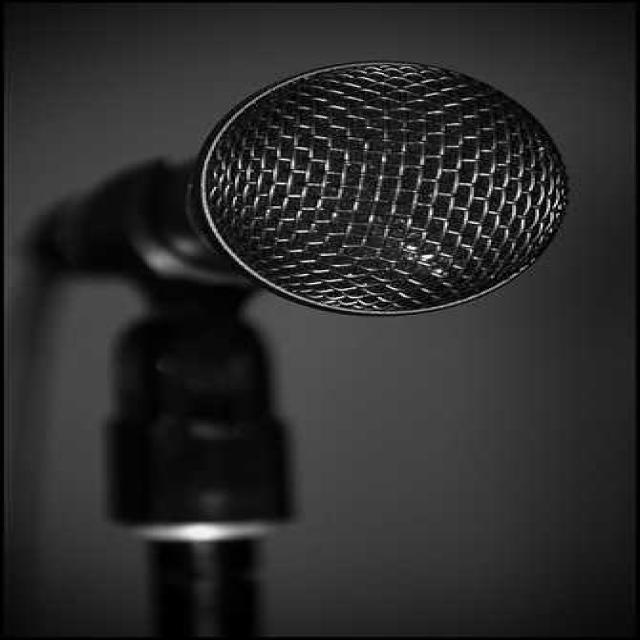microphone: (43, 61, 571, 329)
